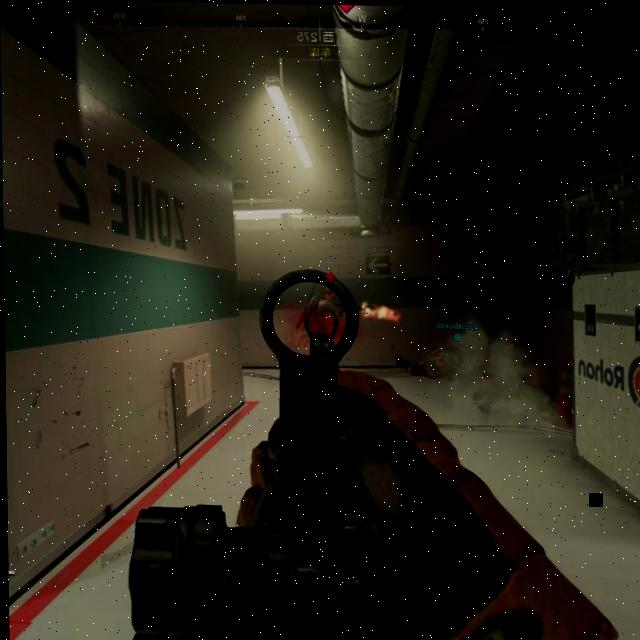MW2_body: (302, 270, 341, 333)
